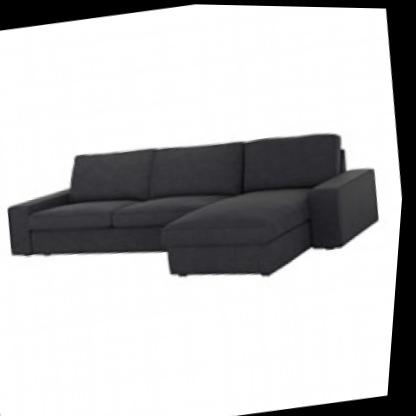Sofa: (0, 91, 395, 318)
